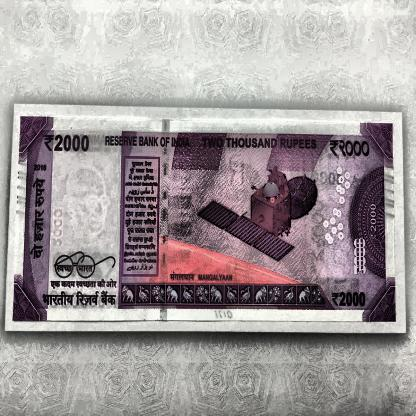Rs2000: (38, 127, 98, 162), (329, 284, 372, 315)
